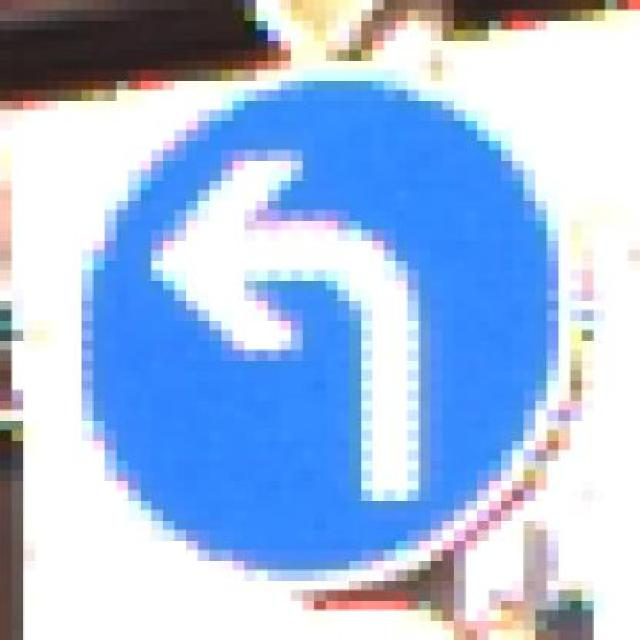Turn left ahead: (81, 59, 594, 590)
